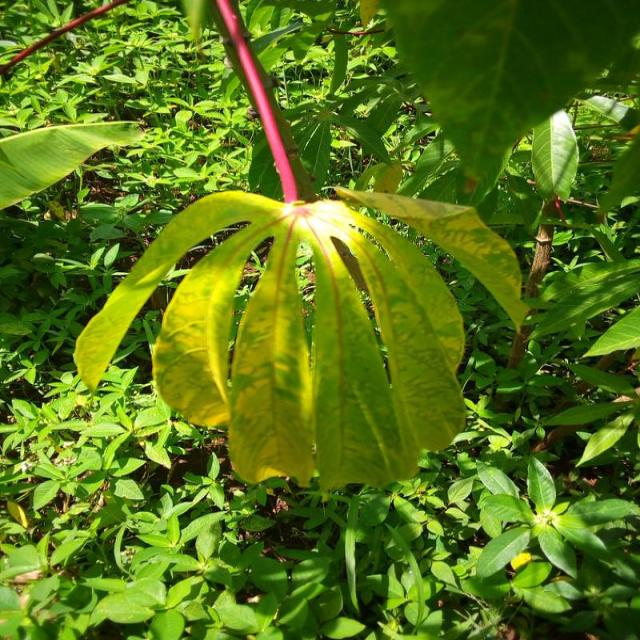cassava leaf: (72, 186, 473, 492), (333, 181, 528, 333), (0, 119, 143, 210)
